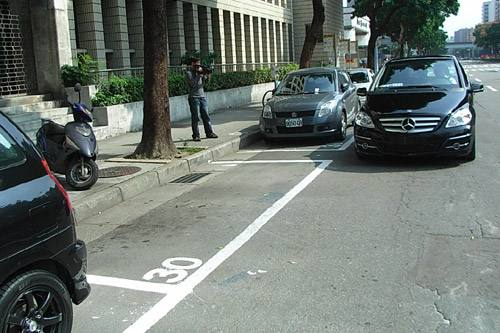slot_nocar: (40, 155, 338, 301)
